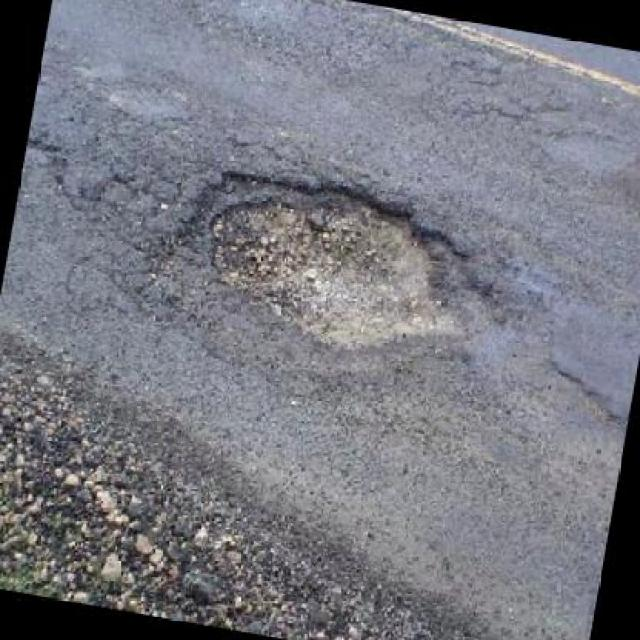pothole1: (140, 144, 523, 388)
